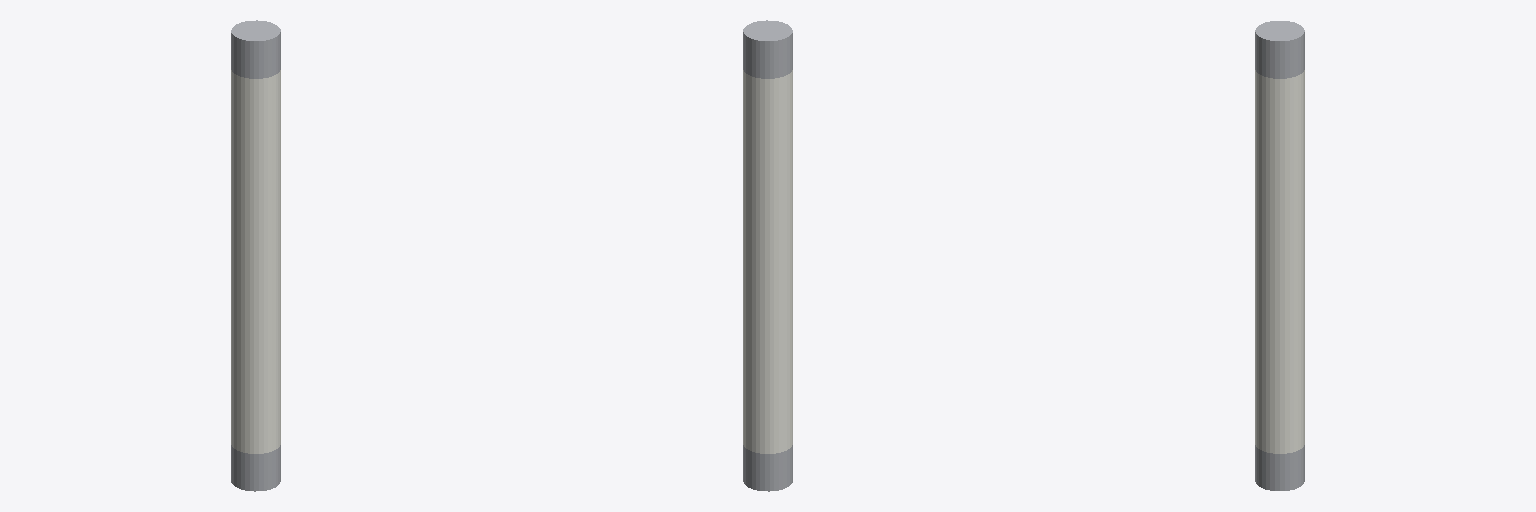
URDF robot description (spinning_pen):
<?xml version="1.0"?>
<robot name="spinning_pen">

  <!-- Materials -->
  <material name="nylon_white">
    <color rgba="0.95 0.95 0.92 1.0"/>
  </material>
  <material name="aluminum_grey">
    <color rgba="0.75 0.76 0.78 1.0"/>
  </material>

  <!-- 1. BODY LINK -->
  <link name="body_link">
    <inertial>
      <mass value="0.02439"/>
      <origin xyz="0 0 0" rpy="0 0 0"/>
      <inertia ixx="0.00004644" ixy="0" ixz="0" iyy="0.00004644" iyz="0" izz="0.00000143"/>
    </inertial>
    <visual>
      <geometry>
        <cylinder radius="0.009" length="0.15"/>
      </geometry>
      <material name="nylon_white"/>
    </visual>
    <collision>
      <geometry>
        <cylinder radius="0.009" length="0.15"/>
      </geometry>
    </collision>
  </link>

  <!-- 2. LEFT TIP -->
  <link name="left_tip_link">
    <inertial>
      <mass value="0.00827"/>
      <origin xyz="0 0 0" rpy="0 0 0"/>
      <inertia ixx="0.00000036" ixy="0" ixz="0" iyy="0.00000036" iyz="0" izz="0.00000040"/>
    </inertial>
    <visual>
      <geometry>
        <cylinder radius="0.009" length="0.015"/>
      </geometry>
      <material name="aluminum_grey"/>
    </visual>
    <collision>
      <geometry>
        <cylinder radius="0.009" length="0.015"/>
      </geometry>
    </collision>
  </link>

  <!-- 3. RIGHT TIP -->
  <link name="right_tip_link">
    <inertial>
      <mass value="0.00827"/>
      <origin xyz="0 0 0" rpy="0 0 0"/>
      <inertia ixx="0.00000036" ixy="0" ixz="0" iyy="0.00000036" iyz="0" izz="0.00000040"/>
    </inertial>
    <visual>
      <geometry>
        <cylinder radius="0.009" length="0.015"/>
      </geometry>
      <material name="aluminum_grey"/>
    </visual>
    <collision>
      <geometry>
        <cylinder radius="0.009" length="0.015"/>
      </geometry>
    </collision>
  </link>

  <!-- JOINTS (Fixed) -->
  <!-- Joint offset calculation: Body Length/2 + Tip Length/2 -->
  <joint name="body_to_left" type="fixed">
    <parent link="body_link"/>
    <child link="left_tip_link"/>
    <origin xyz="0 0 -0.08249999999999999" rpy="0 0 0"/>
  </joint>

  <joint name="body_to_right" type="fixed">
    <parent link="body_link"/>
    <child link="right_tip_link"/>
    <origin xyz="0 0 0.08249999999999999" rpy="0 0 0"/>
  </joint>

</robot>

--- Facts derived from the render (not from the file) ---
Views: 3 orthographic renders of the robot side by side, from view 1: azimuth 30°, elevation 25°; view 2: azimuth 150°, elevation 25°; view 3: azimuth 270°, elevation 25°.
Model spinning_pen with 3 links and 2 joints (2 fixed), rooted at body_link, posed every joint at zero.
Links seen in each view (by area): view 1: body_link, right_tip_link, left_tip_link; view 2: body_link, right_tip_link, left_tip_link; view 3: body_link, right_tip_link, left_tip_link.
Link boxes in pixels (bbox=[...]): body_link: bbox=[231, 70, 280, 453]; right_tip_link: bbox=[231, 20, 280, 78]; left_tip_link: bbox=[231, 445, 280, 491]; body_link: bbox=[743, 70, 792, 453]; right_tip_link: bbox=[743, 20, 792, 78]; left_tip_link: bbox=[743, 445, 792, 491]; body_link: bbox=[1255, 70, 1304, 453]; right_tip_link: bbox=[1255, 21, 1304, 78]; left_tip_link: bbox=[1255, 445, 1304, 490].
Size in the robot's own frame: 0.018 by 0.018 by 0.18 metres.
Geometry: primitives only (box / cylinder / sphere), no mesh files.
